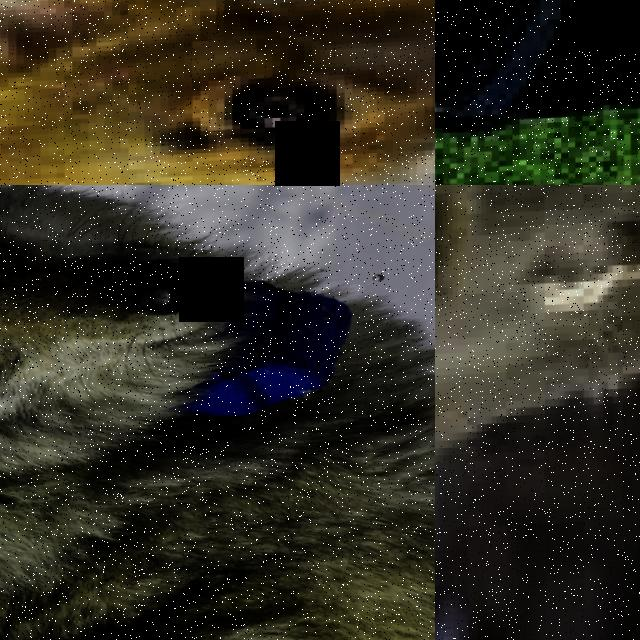dog: (0, 0, 435, 185), (435, 0, 640, 185)
wolf: (0, 185, 435, 640), (435, 185, 640, 640)
